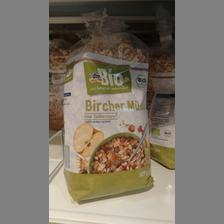Cerealien: (60, 32, 160, 202)
